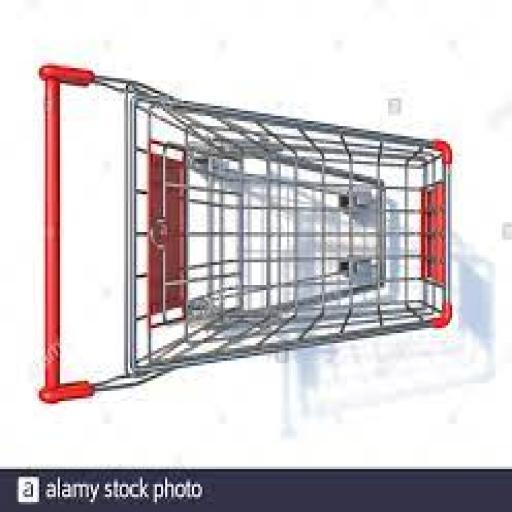shopping_cart: (35, 61, 453, 408)
